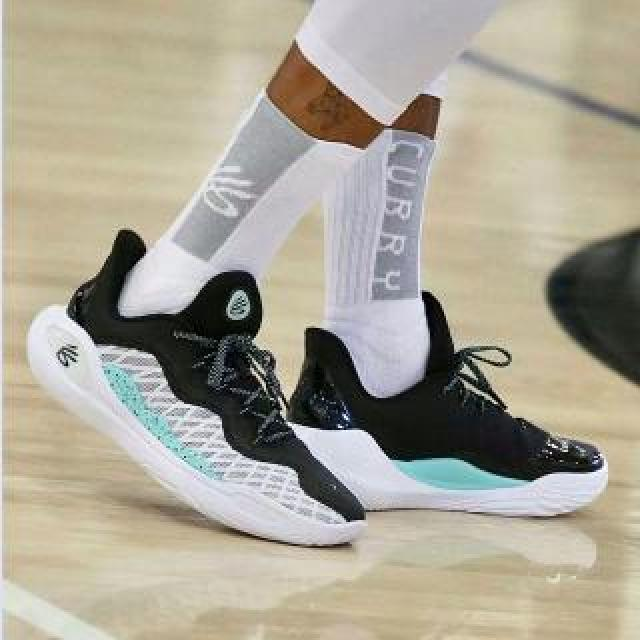shoe: (30, 228, 366, 546), (276, 292, 610, 518)
